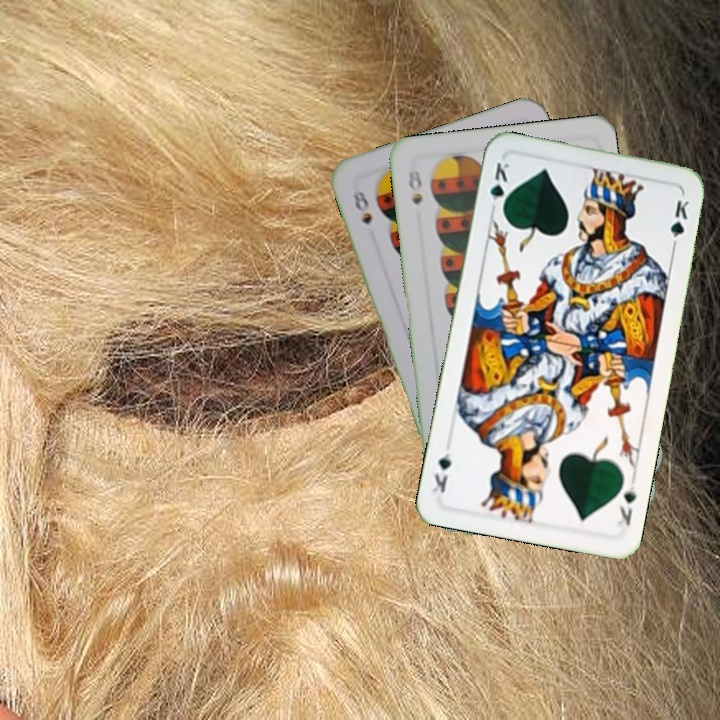GK: (485, 158, 512, 216), (613, 475, 639, 530)
S8: (349, 184, 375, 227), (404, 164, 425, 207)
